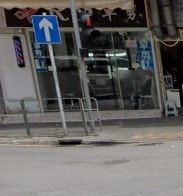One Way Traffic: (27, 14, 62, 45)
